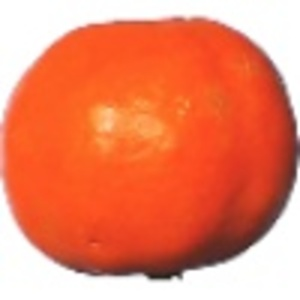tangerina: (1, 14, 300, 280)
